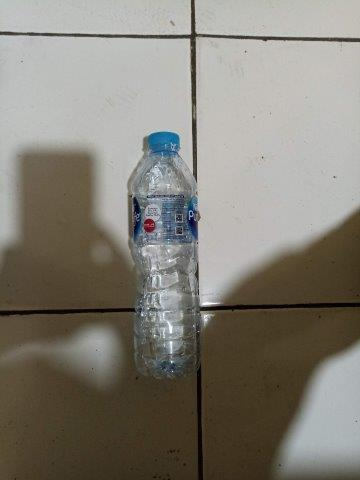botolplastik: (131, 133, 202, 378)
